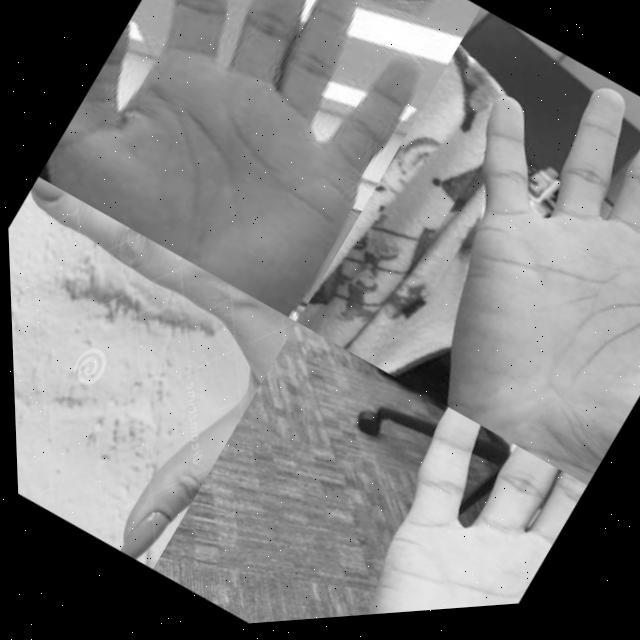no-gloves: (31, 0, 481, 337), (329, 33, 640, 507), (5, 162, 300, 578), (242, 374, 586, 627)
